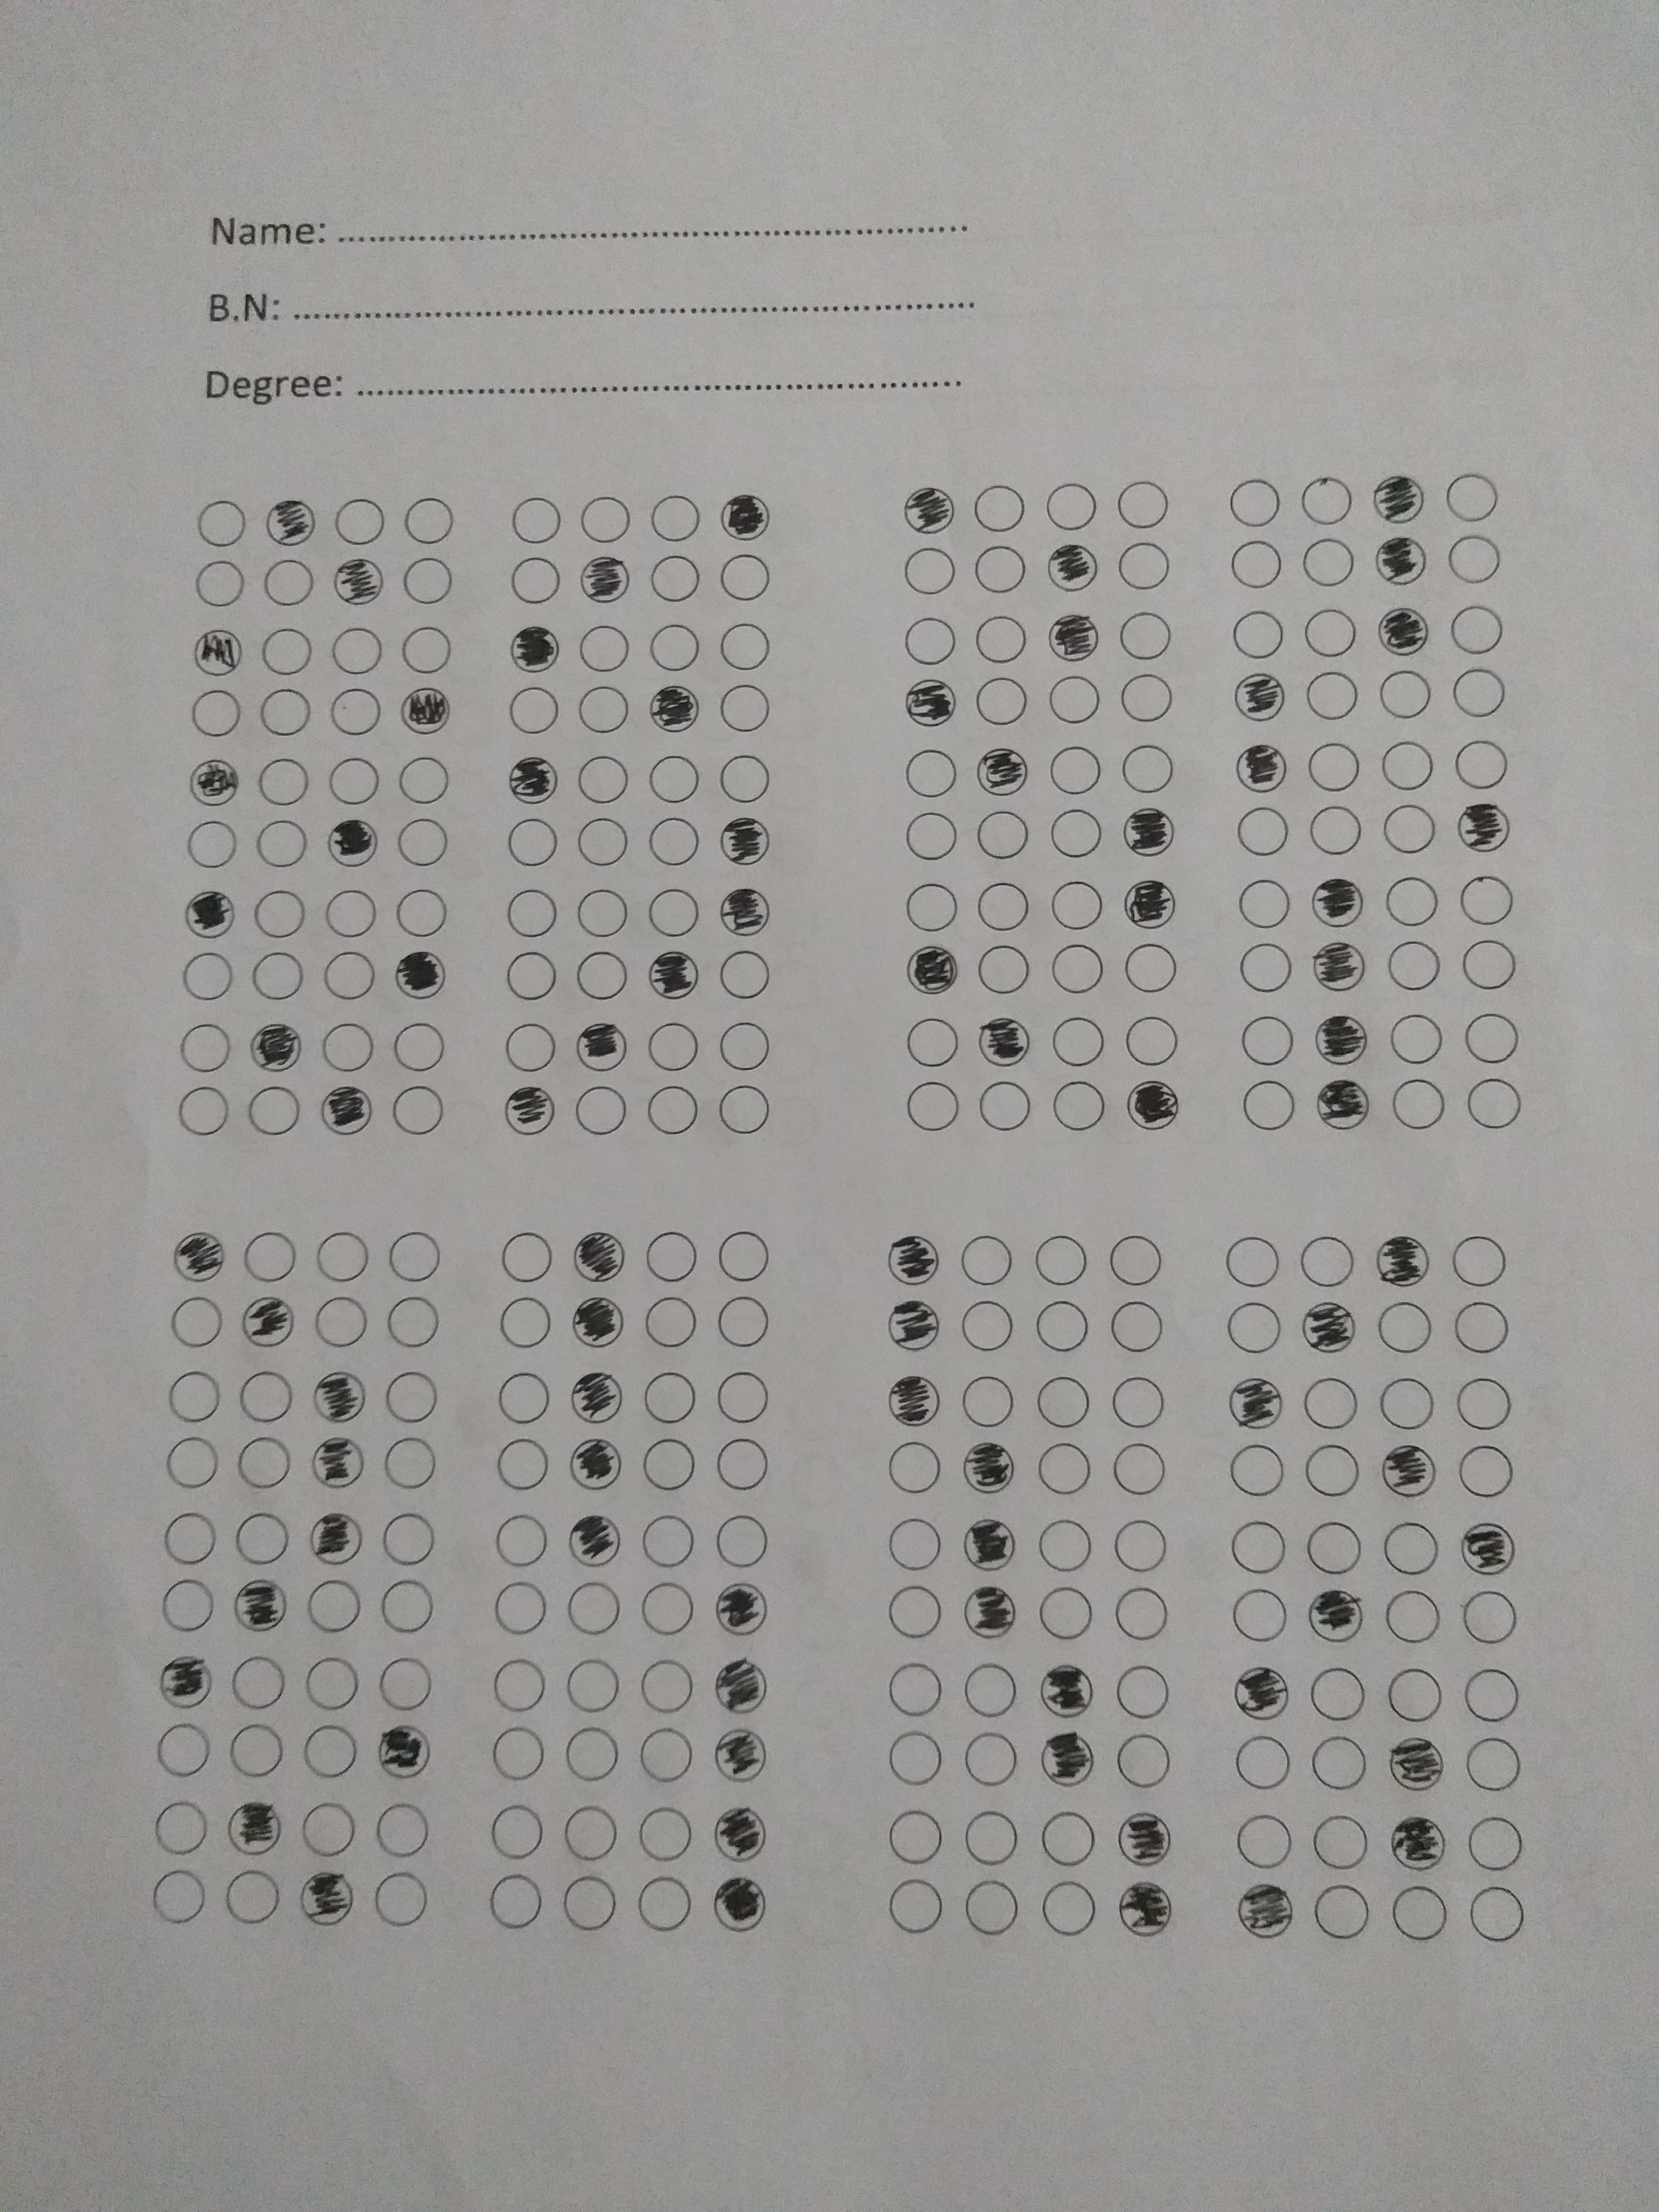not-c: (483, 1869, 551, 1935), (488, 1508, 558, 1571), (486, 1224, 558, 1285), (152, 1717, 218, 1782), (481, 1797, 547, 1862), (882, 1874, 948, 1939), (1225, 1515, 1291, 1580), (1380, 1585, 1446, 1649), (1452, 1440, 1521, 1501), (1114, 1658, 1178, 1723), (559, 1723, 626, 1785), (960, 1874, 1023, 1940), (1300, 1515, 1366, 1578), (636, 1867, 697, 1935), (481, 1653, 551, 1712), (368, 1869, 432, 1932), (884, 1803, 946, 1867), (1220, 1230, 1284, 1292), (1307, 1731, 1371, 1794), (227, 1508, 293, 1569), (375, 1648, 436, 1714), (146, 1867, 213, 1928), (958, 1806, 1025, 1867), (1037, 1874, 1098, 1940), (1309, 1881, 1375, 1942), (631, 1656, 699, 1716), (568, 946, 636, 1005), (1371, 1296, 1439, 1355), (1035, 1806, 1098, 1869), (234, 1366, 298, 1426), (484, 1723, 549, 1784), (633, 1578, 697, 1639), (566, 1080, 631, 1141), (1030, 1296, 1094, 1357), (1110, 1730, 1175, 1791), (1387, 1883, 1452, 1944), (307, 1292, 373, 1352), (556, 1655, 622, 1714), (488, 1367, 554, 1426), (491, 1292, 558, 1352), (1382, 1076, 1450, 1134), (641, 1080, 702, 1143), (573, 678, 636, 738), (882, 1658, 943, 1721), (1234, 939, 1297, 1000), (1464, 1073, 1527, 1134), (1297, 1231, 1359, 1292), (1227, 1440, 1290, 1501), (1305, 1663, 1368, 1724), (1309, 1810, 1371, 1871), (227, 1717, 286, 1782), (634, 1514, 699, 1573), (490, 1435, 554, 1494), (636, 1435, 701, 1494), (1298, 604, 1363, 664), (1448, 735, 1513, 794), (1452, 1372, 1516, 1432), (1460, 1815, 1525, 1874), (296, 1724, 362, 1782), (561, 1869, 619, 1935), (713, 1508, 770, 1575), (1300, 738, 1366, 796), (708, 1226, 775, 1282), (394, 749, 455, 810), (317, 946, 378, 1007), (1035, 1583, 1096, 1644), (960, 1658, 1021, 1719), (1377, 737, 1438, 798), (1230, 1733, 1291, 1794), (235, 1432, 295, 1494), (378, 1433, 441, 1493), (159, 1575, 218, 1637), (375, 1576, 437, 1635), (228, 1651, 291, 1710), (631, 1803, 694, 1862), (558, 1803, 620, 1862), (633, 1726, 695, 1785), (711, 1432, 770, 1494), (638, 1292, 701, 1352), (714, 1080, 774, 1143), (1046, 1012, 1108, 1071), (955, 1296, 1018, 1355), (882, 1437, 945, 1496), (1460, 1008, 1523, 1068), (1302, 1374, 1364, 1433), (1302, 1440, 1364, 1500), (387, 1224, 444, 1289), (1448, 1231, 1513, 1289), (1459, 1665, 1523, 1723), (223, 1867, 284, 1926), (713, 1291, 772, 1352), (1117, 738, 1178, 798), (1046, 803, 1107, 862), (885, 1581, 945, 1642), (1378, 1519, 1439, 1578), (1459, 1587, 1520, 1646), (314, 1017, 376, 1075), (235, 1228, 298, 1285), (303, 1649, 361, 1712), (1047, 671, 1105, 733), (884, 1730, 946, 1787), (1443, 470, 1506, 528), (1452, 1298, 1514, 1355), (380, 1507, 436, 1571), (387, 1078, 446, 1137), (312, 1226, 371, 1285), (385, 1292, 444, 1352), (716, 749, 775, 808), (1033, 1372, 1093, 1432), (1384, 873, 1443, 932), (1225, 1298, 1284, 1357), (247, 948, 308, 1005), (173, 1082, 234, 1139), (150, 1797, 211, 1855), (500, 1015, 558, 1076), (572, 749, 633, 806), (899, 610, 960, 667), (1115, 604, 1176, 662), (903, 878, 960, 939), (1046, 939, 1107, 996), (903, 1014, 964, 1071), (1047, 1076, 1108, 1134), (960, 1730, 1018, 1791), (1293, 472, 1354, 529), (1446, 599, 1507, 657), (1462, 1735, 1523, 1792), (1464, 1886, 1525, 1944), (573, 491, 636, 547), (899, 808, 962, 864), (1298, 667, 1361, 723), (1385, 1012, 1448, 1068), (1232, 1813, 1297, 1867), (174, 1019, 234, 1076), (167, 1292, 225, 1352), (166, 1367, 225, 1425), (563, 1580, 622, 1637), (643, 749, 702, 806), (1115, 536, 1175, 594), (974, 610, 1033, 667), (1377, 1374, 1436, 1432), (176, 949, 237, 1005), (638, 1228, 699, 1284), (643, 815, 704, 871), (972, 880, 1033, 935), (1033, 1439, 1094, 1494), (884, 1515, 945, 1571), (1227, 538, 1288, 594), (1303, 803, 1364, 859), (1457, 873, 1518, 928), (251, 754, 314, 808), (376, 1797, 430, 1860), (570, 885, 633, 939), (256, 683, 314, 740), (246, 1082, 303, 1139), (491, 1580, 549, 1637), (713, 1369, 770, 1426), (903, 1078, 960, 1136), (1108, 1374, 1166, 1432), (387, 1015, 446, 1071), (162, 1433, 221, 1489), (641, 1369, 701, 1425), (573, 813, 633, 869), (714, 549, 774, 604), (971, 479, 1026, 538), (1040, 479, 1100, 535), (1122, 941, 1182, 996), (974, 1078, 1033, 1134), (1105, 1299, 1164, 1355), (1110, 1440, 1169, 1496), (1035, 1515, 1094, 1571), (1384, 939, 1443, 995), (1237, 1014, 1297, 1069), (1239, 1078, 1298, 1134), (247, 887, 308, 941), (899, 543, 960, 597), (1225, 608, 1286, 662), (382, 1369, 439, 1425), (714, 1019, 772, 1075), (643, 1017, 701, 1073), (643, 883, 701, 939), (505, 554, 563, 610), (903, 745, 960, 801), (972, 806, 1030, 862), (1110, 1517, 1168, 1573), (1112, 1583, 1168, 1641), (1377, 665, 1434, 721), (1382, 801, 1439, 857), (1234, 876, 1291, 932), (181, 817, 240, 871), (321, 885, 380, 939), (298, 1803, 357, 1857), (645, 554, 704, 608), (648, 491, 702, 550), (305, 1581, 366, 1634), (505, 495, 566, 547), (1030, 1235, 1091, 1287), (1443, 533, 1504, 585), (1227, 475, 1283, 531), (1232, 1587, 1288, 1642), (1389, 1669, 1445, 1724), (324, 754, 382, 808), (392, 887, 450, 941), (1114, 477, 1171, 531), (1119, 671, 1173, 728), (1046, 742, 1103, 796), (1298, 536, 1356, 590), (1450, 667, 1507, 721), (324, 686, 383, 738), (396, 817, 455, 869), (164, 1507, 216, 1566), (502, 815, 561, 867), (714, 681, 774, 733), (971, 545, 1030, 597), (958, 1376, 1019, 1426), (261, 554, 317, 608), (397, 622, 453, 676), (974, 674, 1030, 728), (976, 941, 1030, 996), (502, 951, 559, 1003), (641, 622, 701, 672), (328, 498, 390, 545), (505, 888, 559, 942), (718, 618, 772, 672), (1108, 1233, 1162, 1287), (399, 554, 455, 606), (328, 624, 383, 676), (256, 815, 312, 867), (505, 683, 561, 735), (573, 622, 631, 672), (957, 1235, 1014, 1285), (188, 686, 242, 738), (1124, 1015, 1178, 1068), (190, 557, 246, 608), (718, 949, 774, 1000), (1047, 881, 1103, 932), (1236, 806, 1291, 857), (1460, 939, 1514, 989), (195, 500, 251, 549), (258, 627, 314, 676), (403, 498, 457, 547)
taken-c: (1232, 1660, 1291, 1723), (1387, 1813, 1446, 1874), (1237, 1879, 1297, 1940), (298, 1867, 355, 1930), (1039, 1730, 1096, 1791), (1459, 1519, 1518, 1576), (711, 1803, 767, 1864), (713, 1656, 769, 1716), (234, 1575, 289, 1634), (227, 1799, 282, 1858), (1117, 1879, 1173, 1939), (711, 1876, 767, 1933), (312, 1367, 368, 1425), (312, 1433, 368, 1491), (1117, 1811, 1173, 1869), (1039, 1662, 1096, 1717), (1302, 1299, 1359, 1355), (1229, 1374, 1284, 1432), (1380, 1442, 1438, 1498), (1389, 1735, 1446, 1791), (1122, 874, 1178, 932), (713, 1724, 767, 1784), (1307, 1588, 1366, 1642), (566, 1435, 622, 1491), (378, 1724, 434, 1780), (570, 1367, 624, 1425), (964, 1583, 1018, 1641), (964, 1515, 1018, 1573), (887, 1296, 941, 1353), (1124, 1078, 1182, 1132), (1310, 939, 1368, 993), (1455, 803, 1514, 855), (572, 1230, 626, 1285), (570, 1294, 624, 1350), (566, 1512, 620, 1568), (714, 1581, 769, 1637), (171, 1230, 227, 1284), (308, 1512, 364, 1566), (962, 1439, 1016, 1494), (887, 1235, 943, 1289), (1375, 1235, 1431, 1289), (1312, 1012, 1368, 1066), (185, 756, 242, 808), (242, 1292, 295, 1350), (160, 1653, 213, 1710), (885, 1374, 943, 1426), (1314, 1078, 1371, 1130), (906, 944, 960, 998), (904, 484, 958, 538), (1373, 533, 1427, 587), (247, 1021, 303, 1073), (1234, 742, 1290, 794), (648, 681, 701, 735), (505, 754, 559, 806), (396, 949, 448, 1003), (319, 1083, 373, 1136), (718, 885, 772, 937), (978, 1015, 1032, 1068), (1124, 805, 1176, 859), (976, 745, 1030, 798), (1047, 611, 1101, 664), (1046, 542, 1100, 594), (1373, 474, 1425, 528), (1377, 604, 1431, 657), (1310, 876, 1364, 928), (181, 888, 237, 939), (903, 678, 958, 728), (1232, 672, 1288, 723), (720, 489, 772, 542), (579, 552, 631, 604), (328, 817, 380, 869), (265, 498, 319, 549), (331, 556, 385, 606), (399, 686, 453, 737), (720, 817, 774, 867), (505, 1083, 556, 1137), (575, 1021, 627, 1071), (647, 951, 701, 1000), (193, 627, 244, 678), (511, 624, 561, 674)
